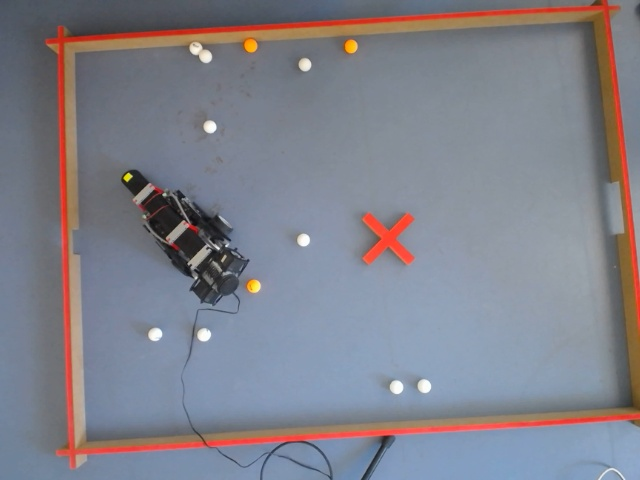orange: (343, 37, 360, 56), (243, 37, 259, 53), (247, 277, 261, 293)
robot: (121, 168, 247, 314)
white: (296, 56, 314, 74), (201, 118, 219, 135), (147, 325, 163, 342), (296, 232, 311, 248), (417, 378, 432, 394), (196, 326, 211, 342), (199, 47, 212, 65), (389, 379, 403, 395), (188, 41, 202, 56)
